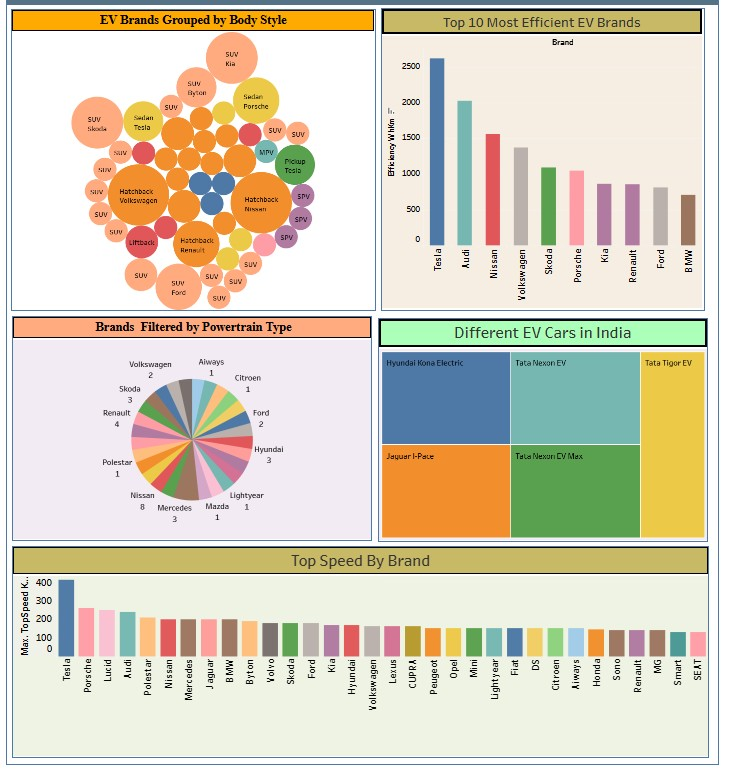

What the dashboard file says about the page in this screenshot:
{"tool":"tableau","page":{"name":"Driving the Future:Insights into Electric Vehicles","canvas":[1326,2000],"ordinal":0},"visuals":[{"type":"image","param":"Image/360_F_1081359338_CtLRnYHppDPquvROXoxNN3GOcKgHtkS6.jpg","box":[8,8,1150,1984]},{"type":"legend","title":"EV Brands Grouped By Body Style","param":"[federated.1afmd5u1ttvggq1cxxy9j098db8y].[none:BodyStyle:nk]","box":[1158,8,160,207]},{"type":"text","box":[82,32,1032,68]},{"type":"worksheet","title":"EV Brands summary globally","mark":"Shape","box":[24,119,314,211]},{"type":"worksheet","title":"EV Brand Summary-India","mark":"Shape","box":[811,128,327,200]},{"type":"legend","title":"Top 10 Most Effective EV Brands ","param":"[federated.1afmd5u1ttvggq1cxxy9j098db8y].[none:Brand:nk]","box":[1158,215,160,240]},{"type":"legend","title":"Different EV cars in India","param":"[federated.190wv1a0fbuizg105qokf1xhvbdd].[none:Car:nk]","box":[1158,455,160,135]},{"type":"worksheet","title":"Top 10 Most Effective EV Brands ","mark":"Automatic","rows":["Efficiency_WhKm"],"cols":["Brand"],"box":[612,777,519,485]},{"type":"worksheet","title":"EV Brands Grouped By Body Style","mark":"Circle","box":[21,779,583,484]},{"type":"worksheet","title":"Brands filtered By Power Train","mark":"Pie","box":[22,1271,577,359]},{"type":"worksheet","title":"Different EV cars in India","mark":"Automatic","box":[608,1273,528,359]},{"type":"worksheet","title":"TopSpeed By Brand","mark":"Automatic","rows":["TopSpeed_KmH"],"cols":["Brand"],"box":[23,1638,1115,339]}]}

Visuals, with their boxes on the page's 1326x2000 design canvas (x1, y1, x2, y2). These are canvas units, not pixel positions in the 742x772 screenshot, which may show the page scaled, cropped or inside an application window:
image: bbox=[8, 8, 1158, 1992]
"EV Brands Grouped By Body Style" legend: bbox=[1158, 8, 1318, 215]
text: bbox=[82, 32, 1114, 100]
"EV Brands summary globally" worksheet (Shape marks): bbox=[24, 119, 338, 330]
"EV Brand Summary-India" worksheet (Shape marks): bbox=[811, 128, 1138, 328]
"Top 10 Most Effective EV Brands " legend: bbox=[1158, 215, 1318, 455]
"Different EV cars in India" legend: bbox=[1158, 455, 1318, 590]
"Top 10 Most Effective EV Brands " worksheet: bbox=[612, 777, 1131, 1262]
"EV Brands Grouped By Body Style" worksheet (Circle marks): bbox=[21, 779, 604, 1263]
"Brands filtered By Power Train" worksheet (Pie marks): bbox=[22, 1271, 599, 1630]
"Different EV cars in India" worksheet: bbox=[608, 1273, 1136, 1632]
"TopSpeed By Brand" worksheet: bbox=[23, 1638, 1138, 1977]
